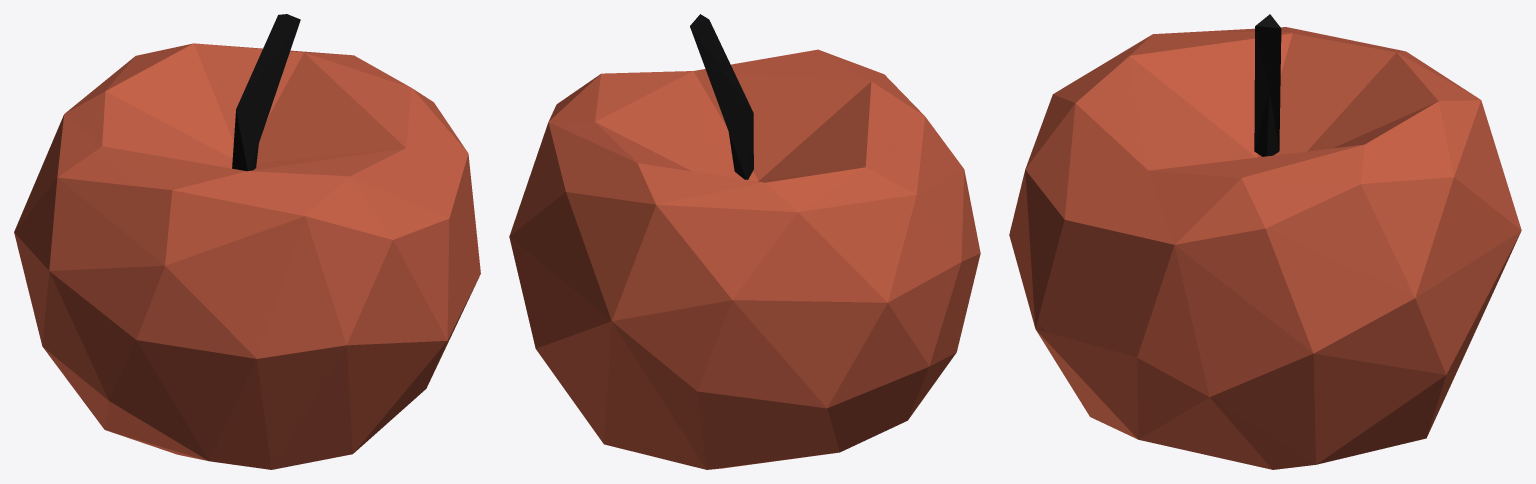
The model's file is Apple.fbx.
The picture shows the model from 3 angles, left to right: view 1: azimuth 30°, elevation 25°; view 2: azimuth 150°, elevation 25°; view 3: azimuth 270°, elevation 25°; orthographic projection. The views are drawn at different scales.
Parts seen in each view (by area): view 1: Apple, AppleSlice, AppleSlice.001; view 2: Apple, AppleSlice.001, AppleSlice; view 3: Apple, AppleSlice.001, AppleSlice.
Boxes of the visible parts, x1,y1,x2,y2 form: Apple: [14, 14, 480, 469]; AppleSlice: [15, 126, 454, 384]; AppleSlice.001: [63, 114, 480, 333]; Apple: [509, 14, 980, 469]; AppleSlice.001: [509, 117, 932, 333]; AppleSlice: [532, 127, 963, 348]; Apple: [1009, 14, 1521, 469]; AppleSlice.001: [1025, 32, 1518, 421]; AppleSlice: [1033, 27, 1521, 469].
Bounding box in the file's own units: 190 × 170 × 190.
